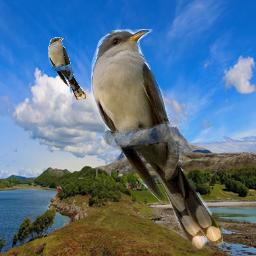Cuckoo: (91, 29, 223, 250), (48, 37, 86, 100)
